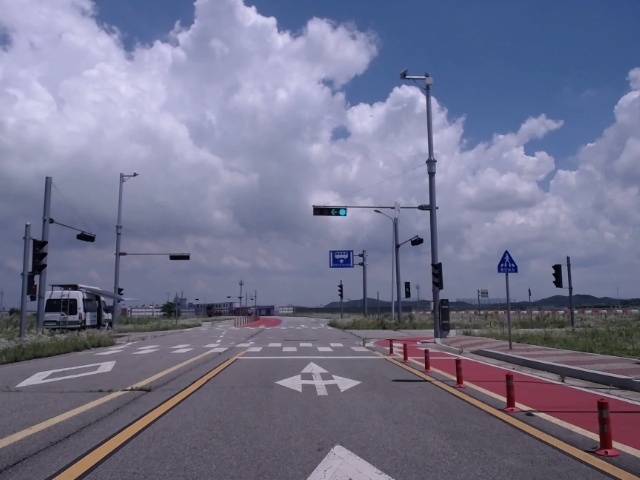all_green_4: (312, 205, 348, 215)
